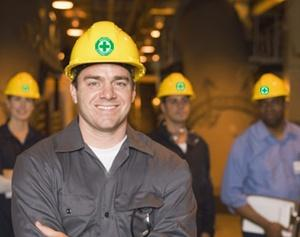helmet: (66, 22, 149, 79), (247, 75, 291, 104), (156, 74, 197, 103), (4, 72, 42, 100), (52, 1, 76, 11)
